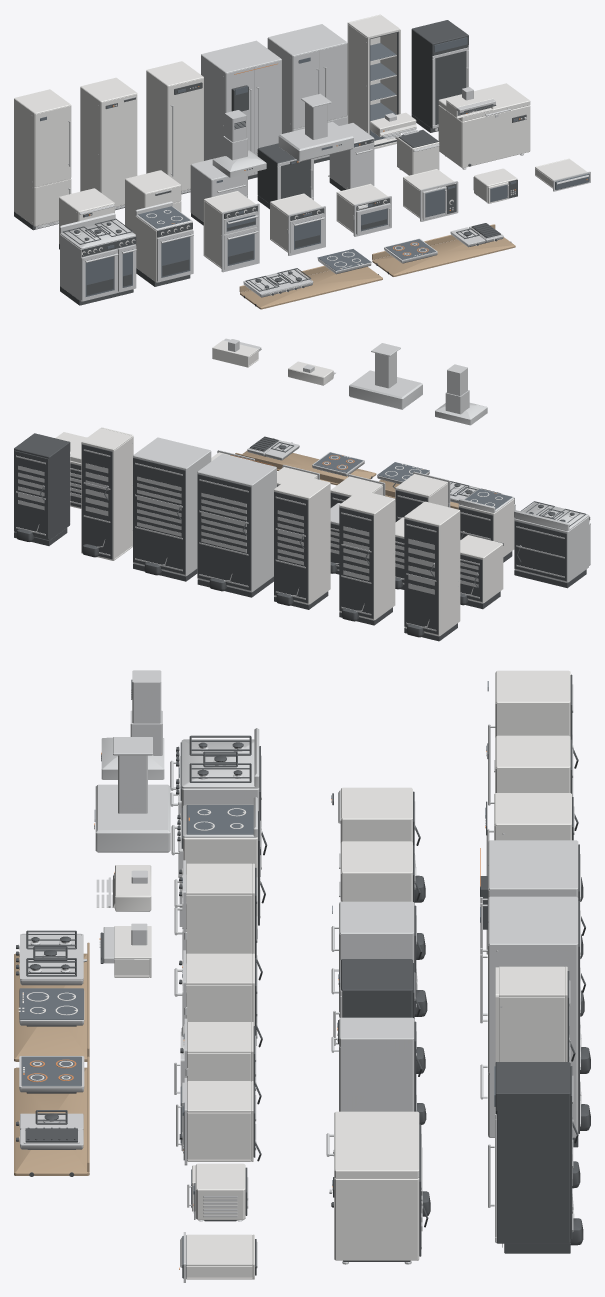
Rendered from home-appliances-and-utility-appliance-showroom-6c81543d__14180.glb.
3 renders of one model, top to bottom at view 1: azimuth 30°, elevation 25°; view 2: azimuth 150°, elevation 25°; view 3: azimuth 270°, elevation 25°, orthographic. The views are drawn at different scales.
Visible parts, largest first — view 1: 005-fridge-integrated-carcass/0, 006-drinks-fridge-glass-door/0, 013-chest-freezer/0, 003-fridge-freezer-side-by-side/0, 001-larder-fridge-tall/door/carcass, 000-fridge-freezer-freestanding/0, 002-freezer-tall/door/carcass, 001-larder-fridge-tall/0, 002-freezer-tall/0, 000-fridge-freezer-freestanding/door-fridge/carcass, 029-hood-island-900/0, 014-range-cooker-900/0 (+56 smaller); view 2: 003-fridge-freezer-side-by-side/0, 006-drinks-fridge-glass-door/0, 003-fridge-freezer-side-by-side/1, 004-fridge-french-door/0, 004-fridge-french-door/1, 000-fridge-freezer-freestanding/1, 000-fridge-freezer-freestanding/0, 002-freezer-tall/0, 014-range-cooker-900/1, 001-larder-fridge-tall/0, 001-larder-fridge-tall/1, 002-freezer-tall/1 (+26 smaller); view 3: 006-drinks-fridge-glass-door/0, 004-fridge-french-door/0, 013-chest-freezer/0, 005-fridge-integrated-carcass/0, 011-ice-maker-undercounter/0, 029-hood-island-900/0, 016-oven-built-in-double/0, 013-chest-freezer/lid/carcass, 019-microwave-combi-built-in/0, 003-fridge-freezer-side-by-side/0, 000-fridge-freezer-freestanding/0, 017-oven-built-in-single/0 (+26 smaller).
Boxes of the visible parts, x1,y1,x2,y2 form: 005-fridge-integrated-carcass/0: (347,14,400,149); 006-drinks-fridge-glass-door/0: (411,20,468,132); 013-chest-freezer/0: (438,105,530,168); 003-fridge-freezer-side-by-side/0: (201,40,281,176); 001-larder-fridge-tall/door/carcass: (100,94,137,206); 000-fridge-freezer-freestanding/0: (14,89,70,226); 002-freezer-tall/door/carcass: (167,78,203,190); 001-larder-fridge-tall/0: (80,77,137,206); 002-freezer-tall/0: (146,61,203,191); 000-fridge-freezer-freestanding/door-fridge/carcass: (34,105,71,186); 029-hood-island-900/0: (278,93,353,161); 014-range-cooker-900/0: (59,213,135,301); 003-fridge-freezer-side-by-side/0: (197,453,276,592); 006-drinks-fridge-glass-door/0: (14,433,70,545); 003-fridge-freezer-side-by-side/1: (197,474,273,597); 004-fridge-french-door/0: (133,437,211,576); 004-fridge-french-door/1: (133,457,197,581); 000-fridge-freezer-freestanding/1: (404,518,457,641); 000-fridge-freezer-freestanding/0: (404,501,460,636); 002-freezer-tall/0: (274,474,330,604); 014-range-cooker-900/1: (514,501,590,588); 001-larder-fridge-tall/0: (339,490,395,620); 001-larder-fridge-tall/1: (339,499,395,625); 002-freezer-tall/1: (274,491,328,609); 006-drinks-fridge-glass-door/0: (495,1062,583,1253); 004-fridge-french-door/0: (488,896,581,1137); 013-chest-freezer/0: (334,1177,419,1260); 005-fridge-integrated-carcass/0: (495,966,567,1061); 011-ice-maker-undercounter/0: (337,1017,426,1111); 029-hood-island-900/0: (95,737,170,852); 016-oven-built-in-double/0: (182,863,254,953); 013-chest-freezer/lid/carcass: (334,1111,419,1178); 019-microwave-combi-built-in/0: (182,1081,253,1161); 003-fridge-freezer-side-by-side/0: (488,840,581,1069); 000-fridge-freezer-freestanding/0: (495,670,570,736); 017-oven-built-in-single/0: (182,953,254,1025).
Bounding box in the file's own units: 8.32 × 2.57 × 4.61.
